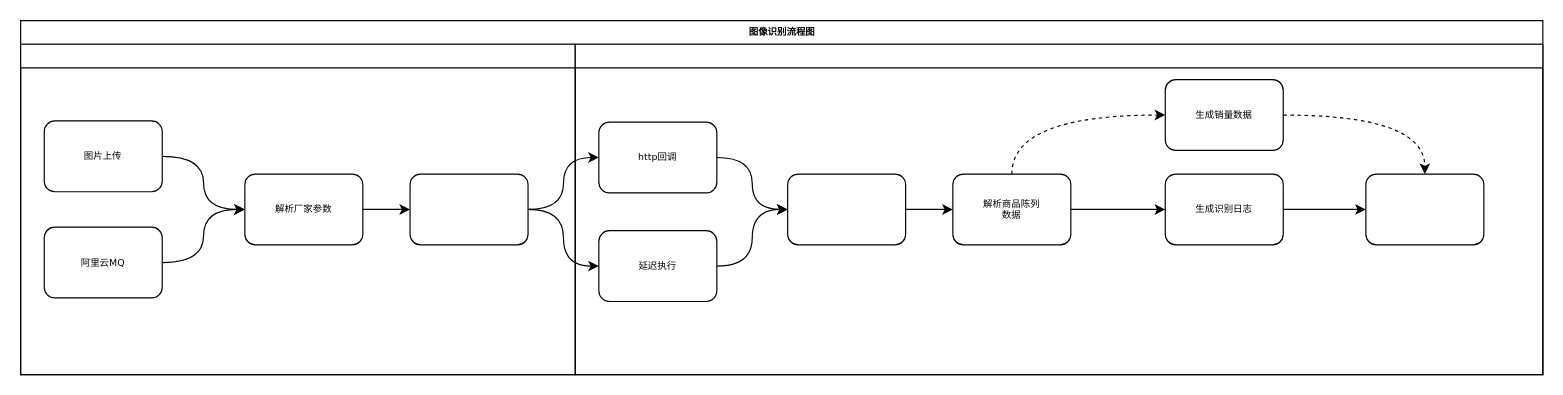
The diagram is 1563 pixels wide and 395 high, and some of its shapes have lost their labels. Each missing label, with the box of its shape:
生成统计数据: (1365, 173, 1484, 245)
结果回调: (574, 43, 1543, 375)
统一数据格式: (786, 173, 906, 245)
识别图片: (409, 173, 528, 245)
识别阶段: (19, 43, 575, 375)
